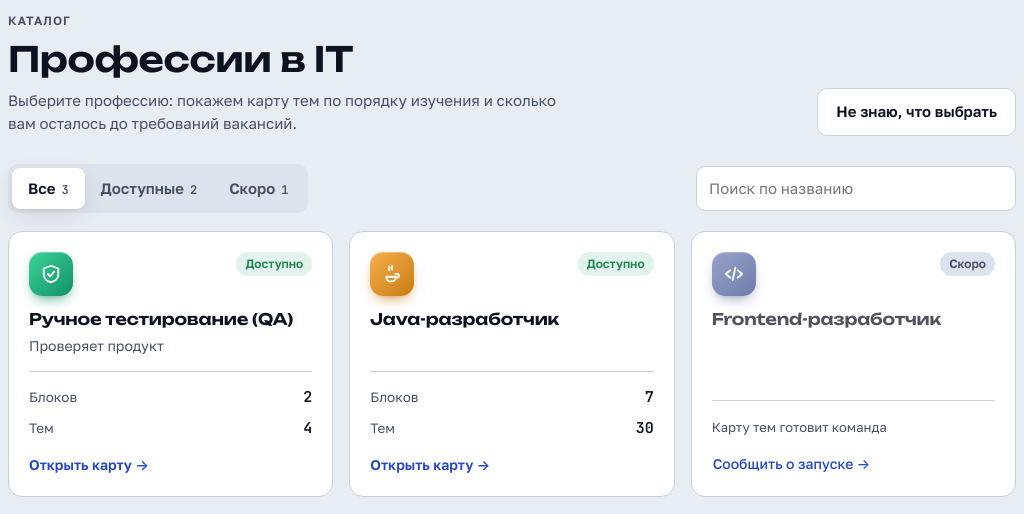
Scenario: CatalogPage › фильтр и поиск
Expected: the heading "Java-разработчик" is shown, [370,309,559,329]
Step 1. Click the button "Скоро1" → (259, 188), box [213,168,304,209]
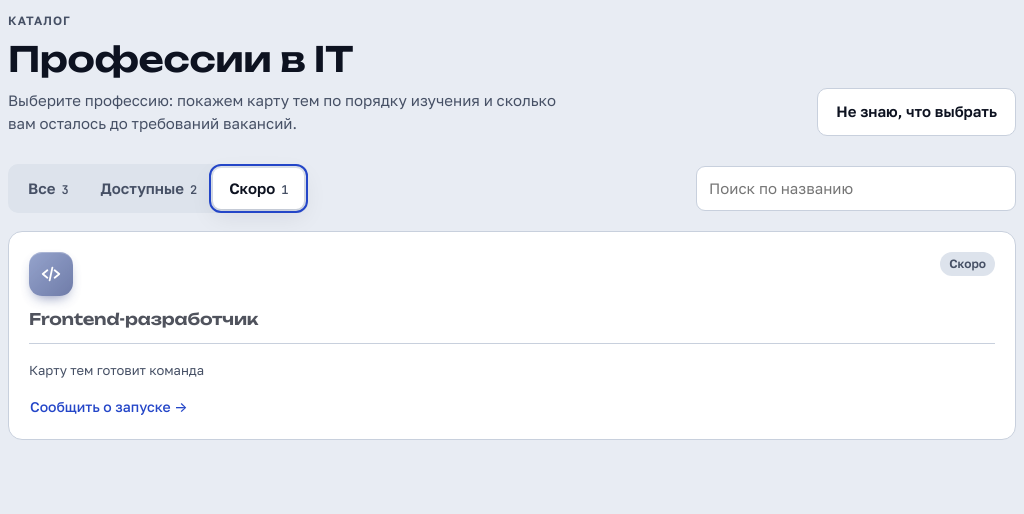
Expected: the heading "Frontend-разработчик" is shown, [29,309,258,329]
Result: the link "Java-разработчик" is gone
Step 2. Click the button "Все3" → (48, 188), box [12,168,85,209]
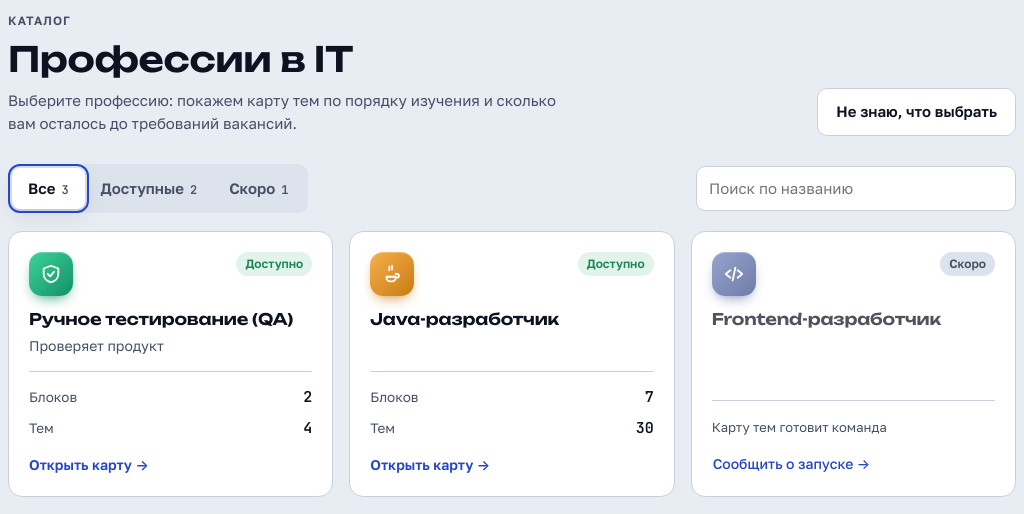
Step 3. Type "java" into the field labelled "Поиск по названию" → (856, 188), box [696,166,1016,211]
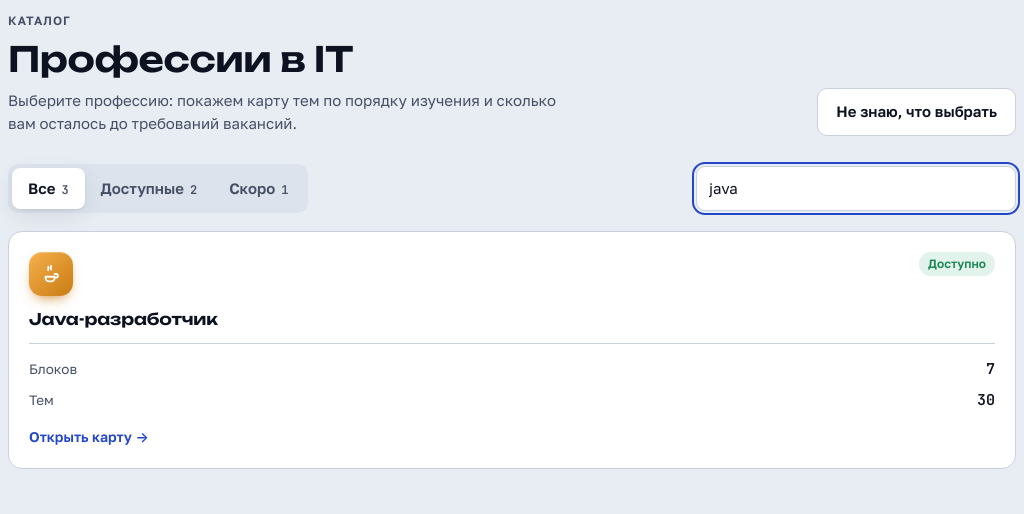
Result: the heading "Java-разработчик" is shown at [29,309,218,329]
Result: the link "Ручное тестирование (QA)" is gone
Step 4. Type "zzz" into the field named "Поиск по названию" → (856, 188), box [696,166,1016,211]
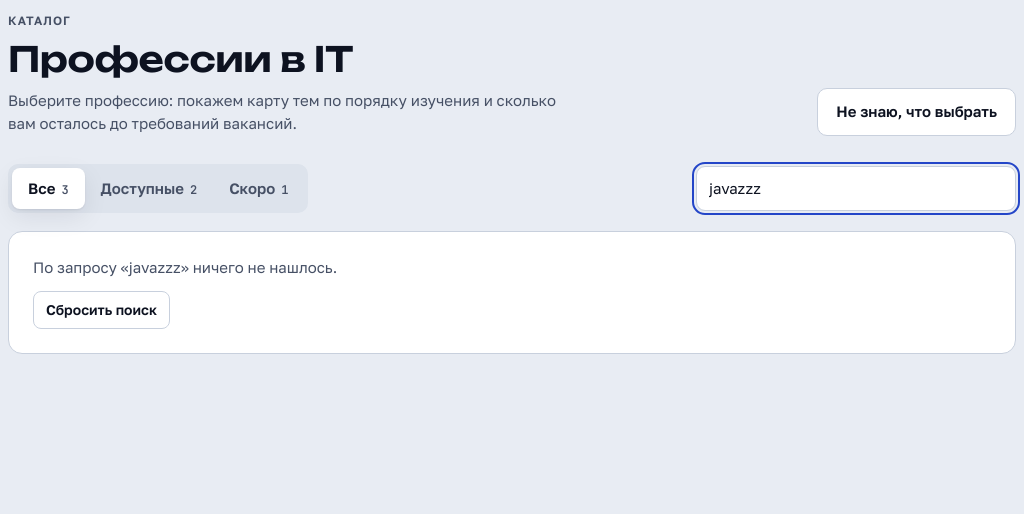
Result: the text "ничего не нашлось" is shown at [33,258,337,276]
